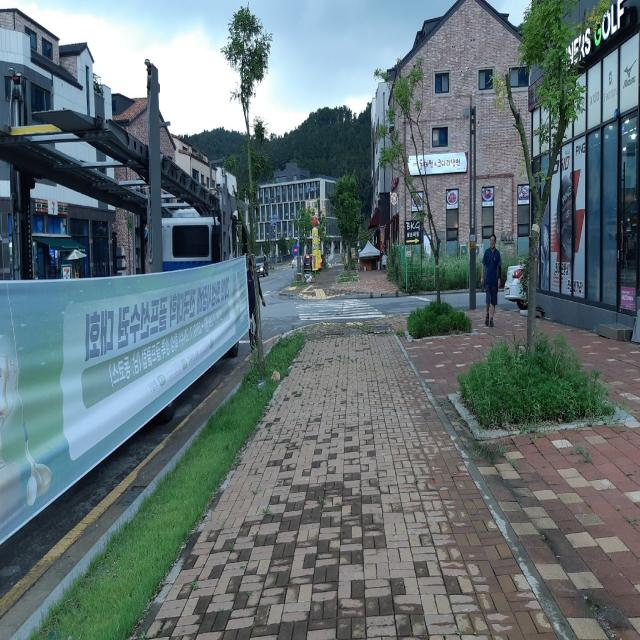횡단보도: (294, 298, 386, 322)
